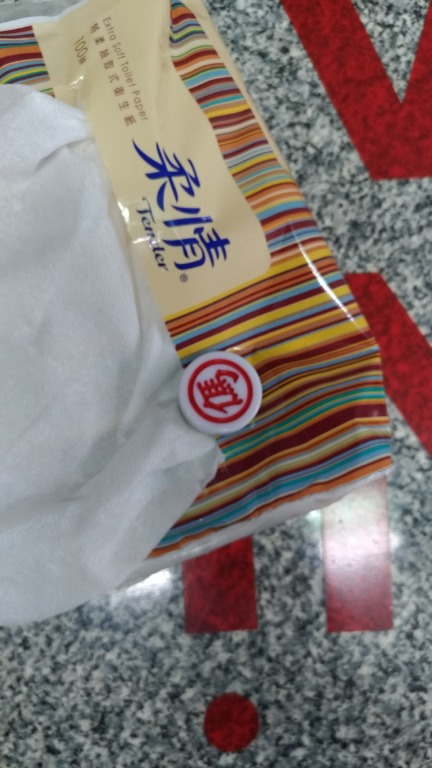r-knight: (165, 345, 283, 447)
